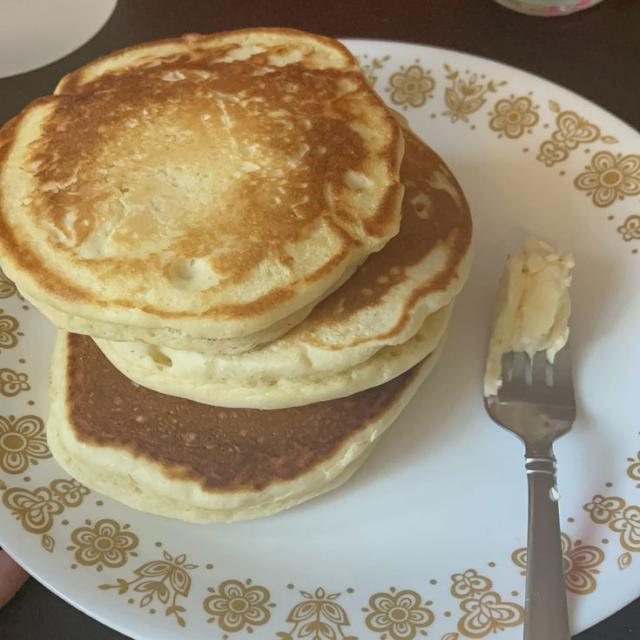pancake: (0, 29, 403, 343), (99, 130, 471, 408), (48, 332, 437, 522), (98, 302, 453, 409)
